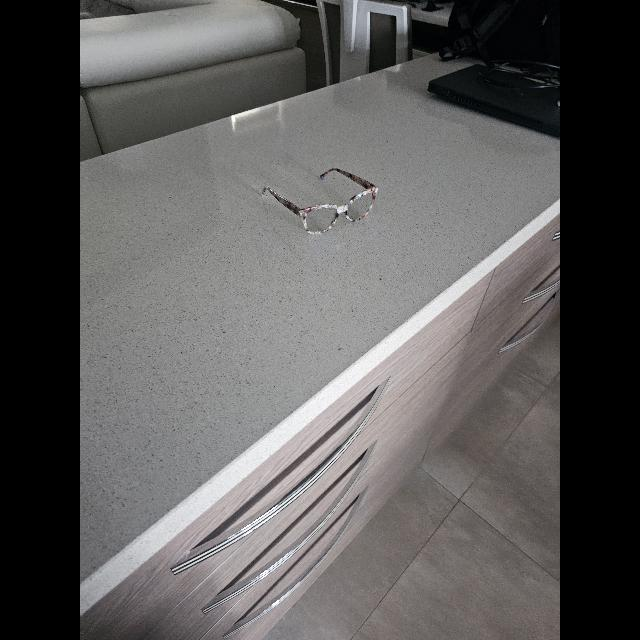glasses: (262, 168, 378, 235)
